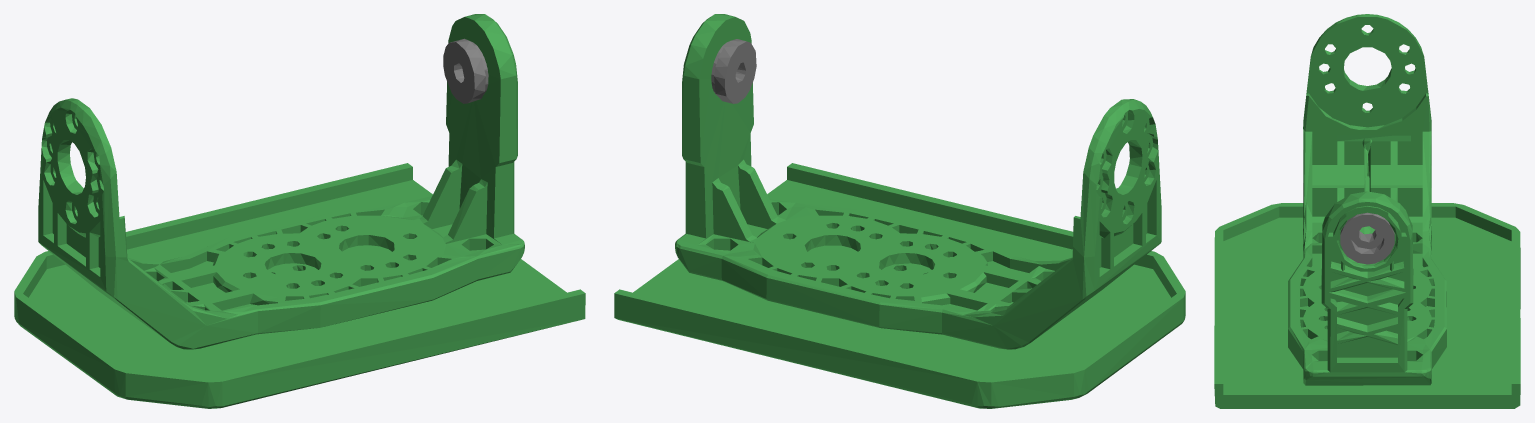
File: bone25.DAE
3 renders of one model, left to right at view 1: azimuth 30°, elevation 25°; view 2: azimuth 150°, elevation 25°; view 3: azimuth 270°, elevation 25°, orthographic. The views are drawn at different scales.
Parts seen in each view (by area): view 1: DRB-0010, Cut-Extrude1, O3.0__3__Diameter_Hole1; view 2: DRB-0010, Cut-Extrude1, O3.0__3__Diameter_Hole1; view 3: DRB-0010, Cut-Extrude1, O3.0__3__Diameter_Hole1.
Boxes of the visible parts, left/top/right/bottom form: DRB-0010: left=38, top=14, right=524, bottom=349; Cut-Extrude1: left=14, top=163, right=585, bottom=408; O3.0__3__Diameter_Hole1: left=443, top=38, right=488, bottom=103; DRB-0010: left=675, top=14, right=1161, bottom=349; Cut-Extrude1: left=614, top=163, right=1185, bottom=408; O3.0__3__Diameter_Hole1: left=711, top=39, right=756, bottom=103; DRB-0010: left=1288, top=14, right=1446, bottom=385; Cut-Extrude1: left=1214, top=203, right=1520, bottom=408; O3.0__3__Diameter_Hole1: left=1340, top=212, right=1394, bottom=264.
Bounding box in the file's own units: 2.76 × 1.97 × 1.55.
